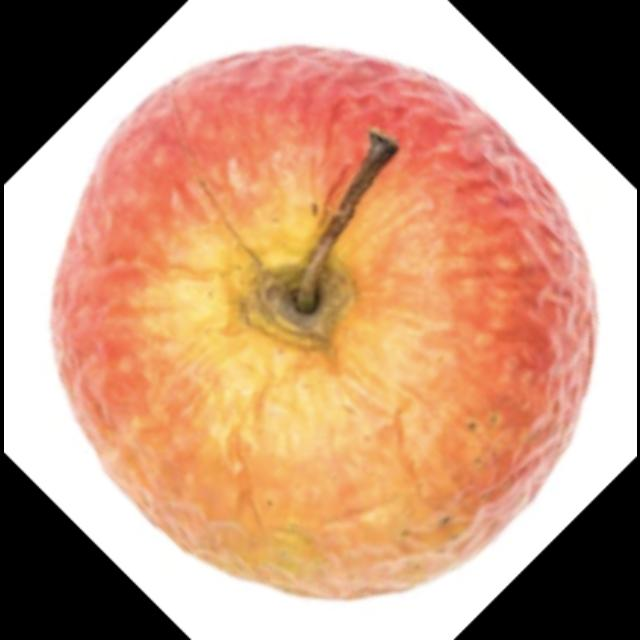Apel Tidak Segar: (40, 48, 611, 604)
